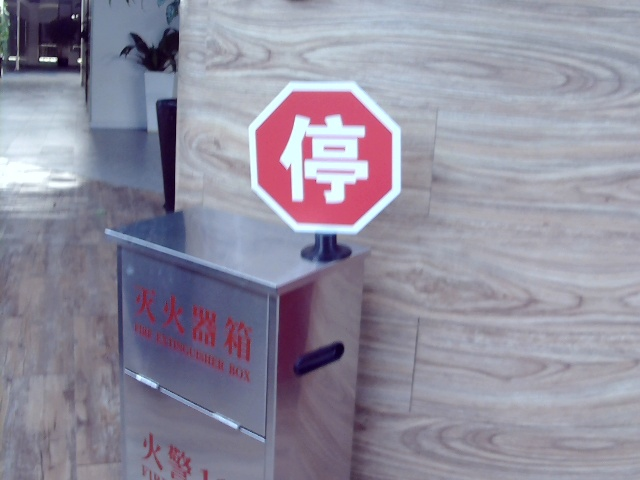stop: (270, 111, 374, 202)
